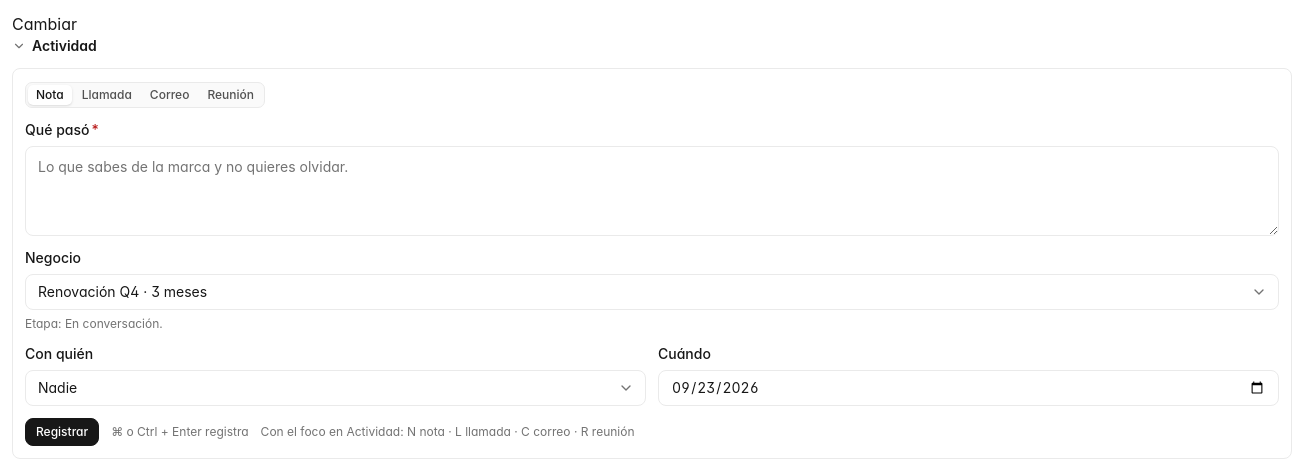
RegistroRapido › con «Actividad» plegado y el foco en su título, la tecla abre el bloque y pone el cursor
Click the button "Actividad". click: coordinates (54, 46)
box: [12, 36, 97, 56]
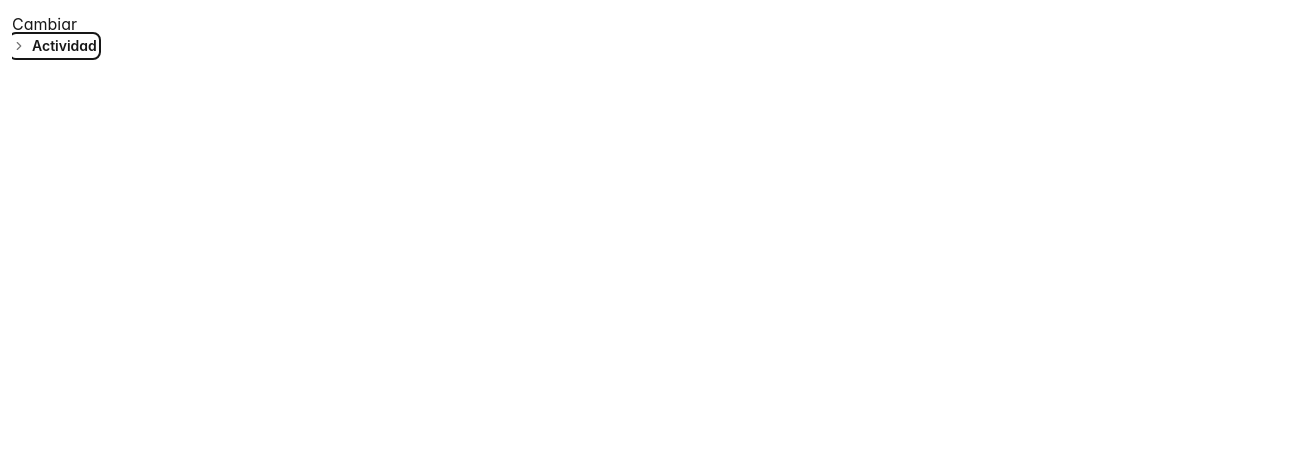
Result: the button "Actividad" is collapsed
Press l in the button "Actividad", box [12, 36, 97, 56]
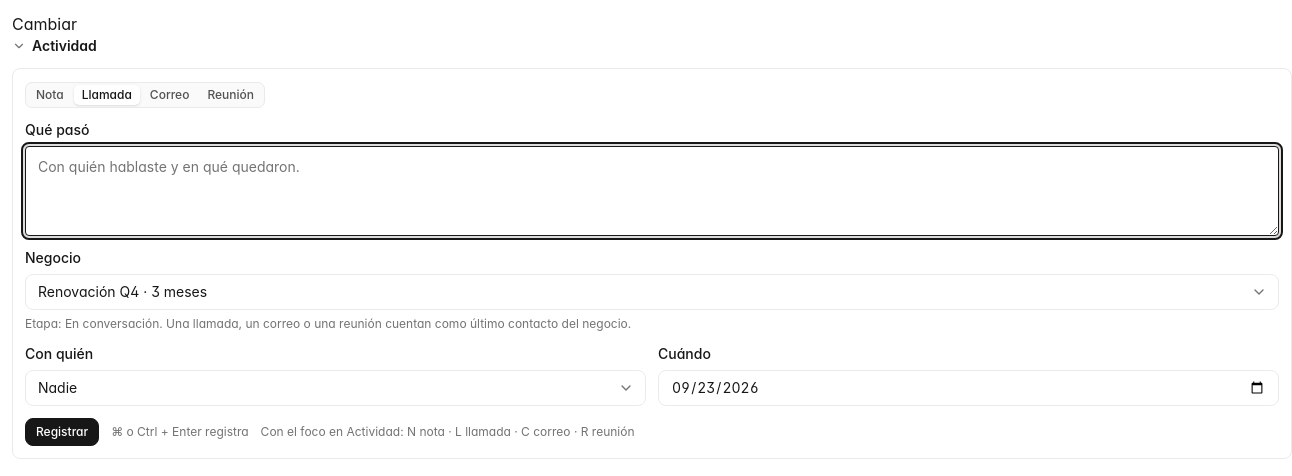
Result: the button "Actividad" is expanded at [12, 36, 97, 56]
